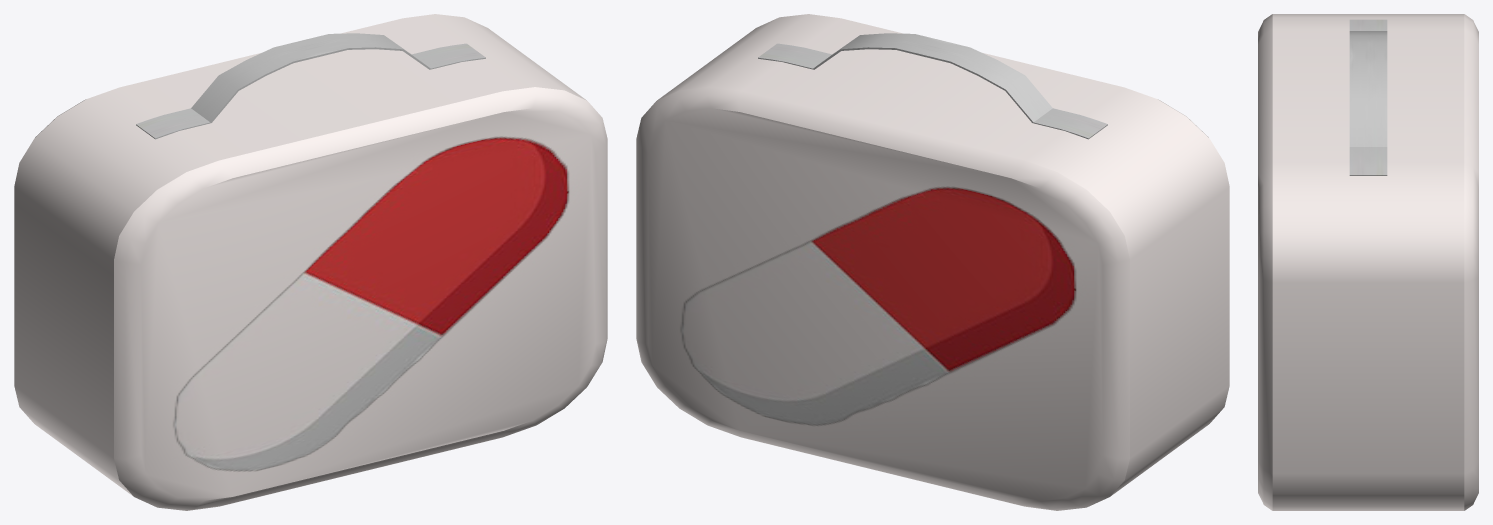
Rendered from healthKit.glb.
3 renders of one model, left to right at view 1: azimuth 30°, elevation 25°; view 2: azimuth 150°, elevation 25°; view 3: azimuth 270°, elevation 25°, orthographic. The views are drawn at different scales.
Parts seen in each view (by area): view 1: medKit; view 2: medKit; view 3: medKit.
Part boxes in pixels (left/top/right/bottom): medKit: left=14, top=14, right=607, bottom=510; medKit: left=636, top=14, right=1229, bottom=510; medKit: left=1258, top=14, right=1478, bottom=510.
Size of what is drawn, in the model's own units: 0.4777 by 0.3585 by 0.1924.
Materials: 1 (1 with a texture image).
